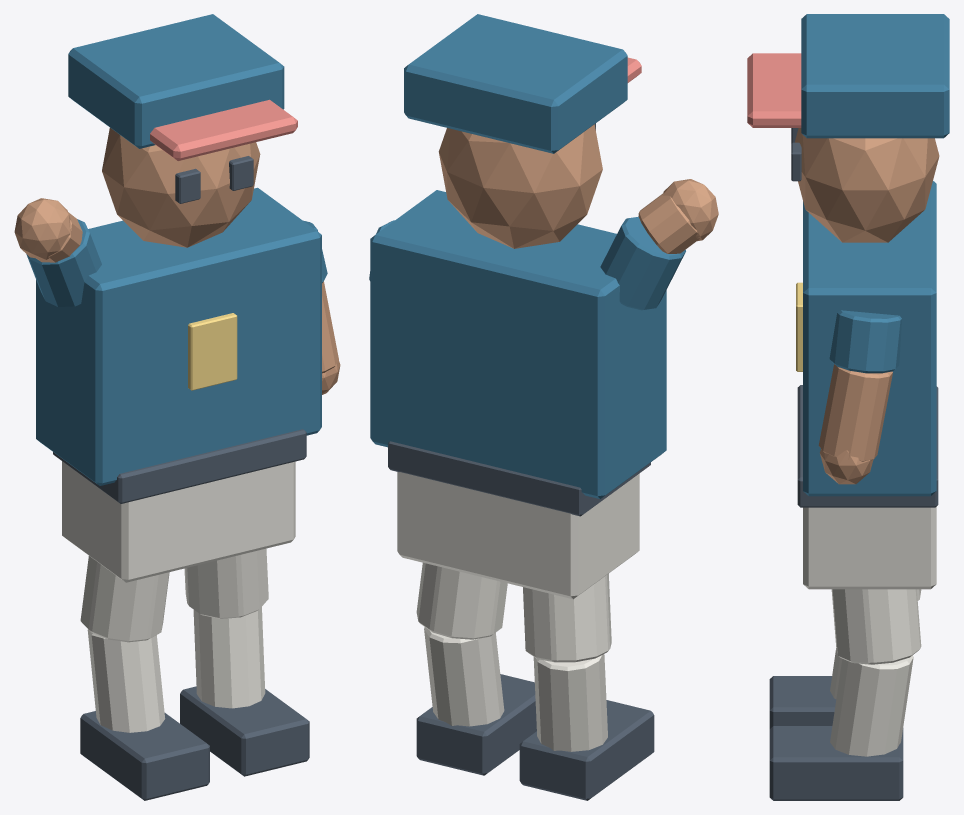
Rendered from player-power-pitcher.glb.
3 renders of one model, left to right at view 1: azimuth 30°, elevation 25°; view 2: azimuth 150°, elevation 25°; view 3: azimuth 270°, elevation 25°, orthographic. The views are drawn at different scales.
Parts seen in each view (by area): view 1: Jersey_Torso, Pants, Cap_Crown, Head, Cleat_R, Cleat_L, Shin_R, Belt, Shin_L, Thigh_R, Cap_Brim, Thigh_L (+7 smaller); view 2: Jersey_Torso, Cap_Crown, Pants, Head, Cleat_R, Cleat_L, Shin_R, Shin_L, Belt, Thigh_R, Thigh_L, UpperArm_R (+2 smaller); view 3: Jersey_Torso, Cap_Crown, Head, Pants, Cleat_L, Shin_L, Thigh_L, Forearm_L, Cap_Brim, UpperArm_L, Cleat_R, Belt (+3 smaller).
Boxes of the visible parts, x1,y1,x2,y2 form: Jersey_Torso: (36, 187, 321, 485); Pants: (62, 461, 295, 582); Cap_Crown: (68, 14, 284, 148); Head: (102, 128, 260, 247); Cleat_R: (80, 711, 209, 800); Cleat_L: (180, 686, 309, 776); Shin_R: (87, 629, 165, 732); Belt: (53, 429, 306, 503); Shin_L: (193, 607, 265, 708); Thigh_R: (80, 556, 169, 642); Cap_Brim: (150, 99, 297, 160); Thigh_L: (184, 548, 268, 618); Jersey_Torso: (370, 190, 666, 499); Cap_Crown: (404, 14, 627, 153); Pants: (397, 472, 639, 599); Head: (438, 124, 602, 248); Cleat_R: (519, 700, 654, 800); Cleat_L: (416, 674, 536, 775); Shin_R: (533, 654, 607, 751); Shin_L: (424, 627, 504, 726); Belt: (388, 441, 650, 516); Thigh_R: (523, 573, 611, 662); Thigh_L: (416, 562, 507, 639); UpperArm_R: (600, 216, 685, 310); Jersey_Torso: (803, 181, 936, 496); Cap_Crown: (801, 14, 949, 138); Head: (795, 128, 939, 242); Pants: (803, 507, 936, 589); Cleat_L: (769, 726, 903, 800); Shin_L: (830, 655, 913, 756); Thigh_L: (831, 589, 921, 664); Forearm_L: (818, 364, 892, 461); Cap_Brim: (747, 53, 801, 127); UpperArm_L: (829, 310, 902, 373); Cleat_R: (769, 676, 903, 728); Belt: (797, 385, 938, 507).
Size of the model in its own units: 1.03 by 2.12 by 0.545.
